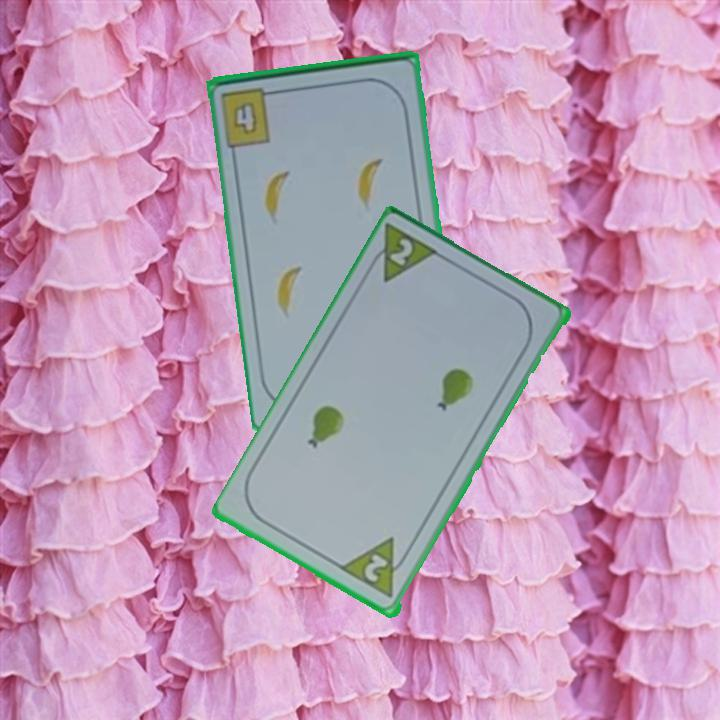2p: (360, 550, 392, 586), (386, 235, 417, 270)
4b: (217, 84, 282, 149)
